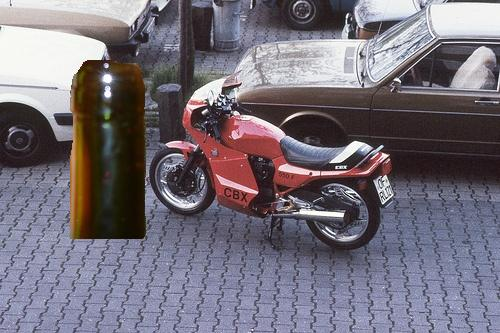tampered: (70, 61, 146, 239)
